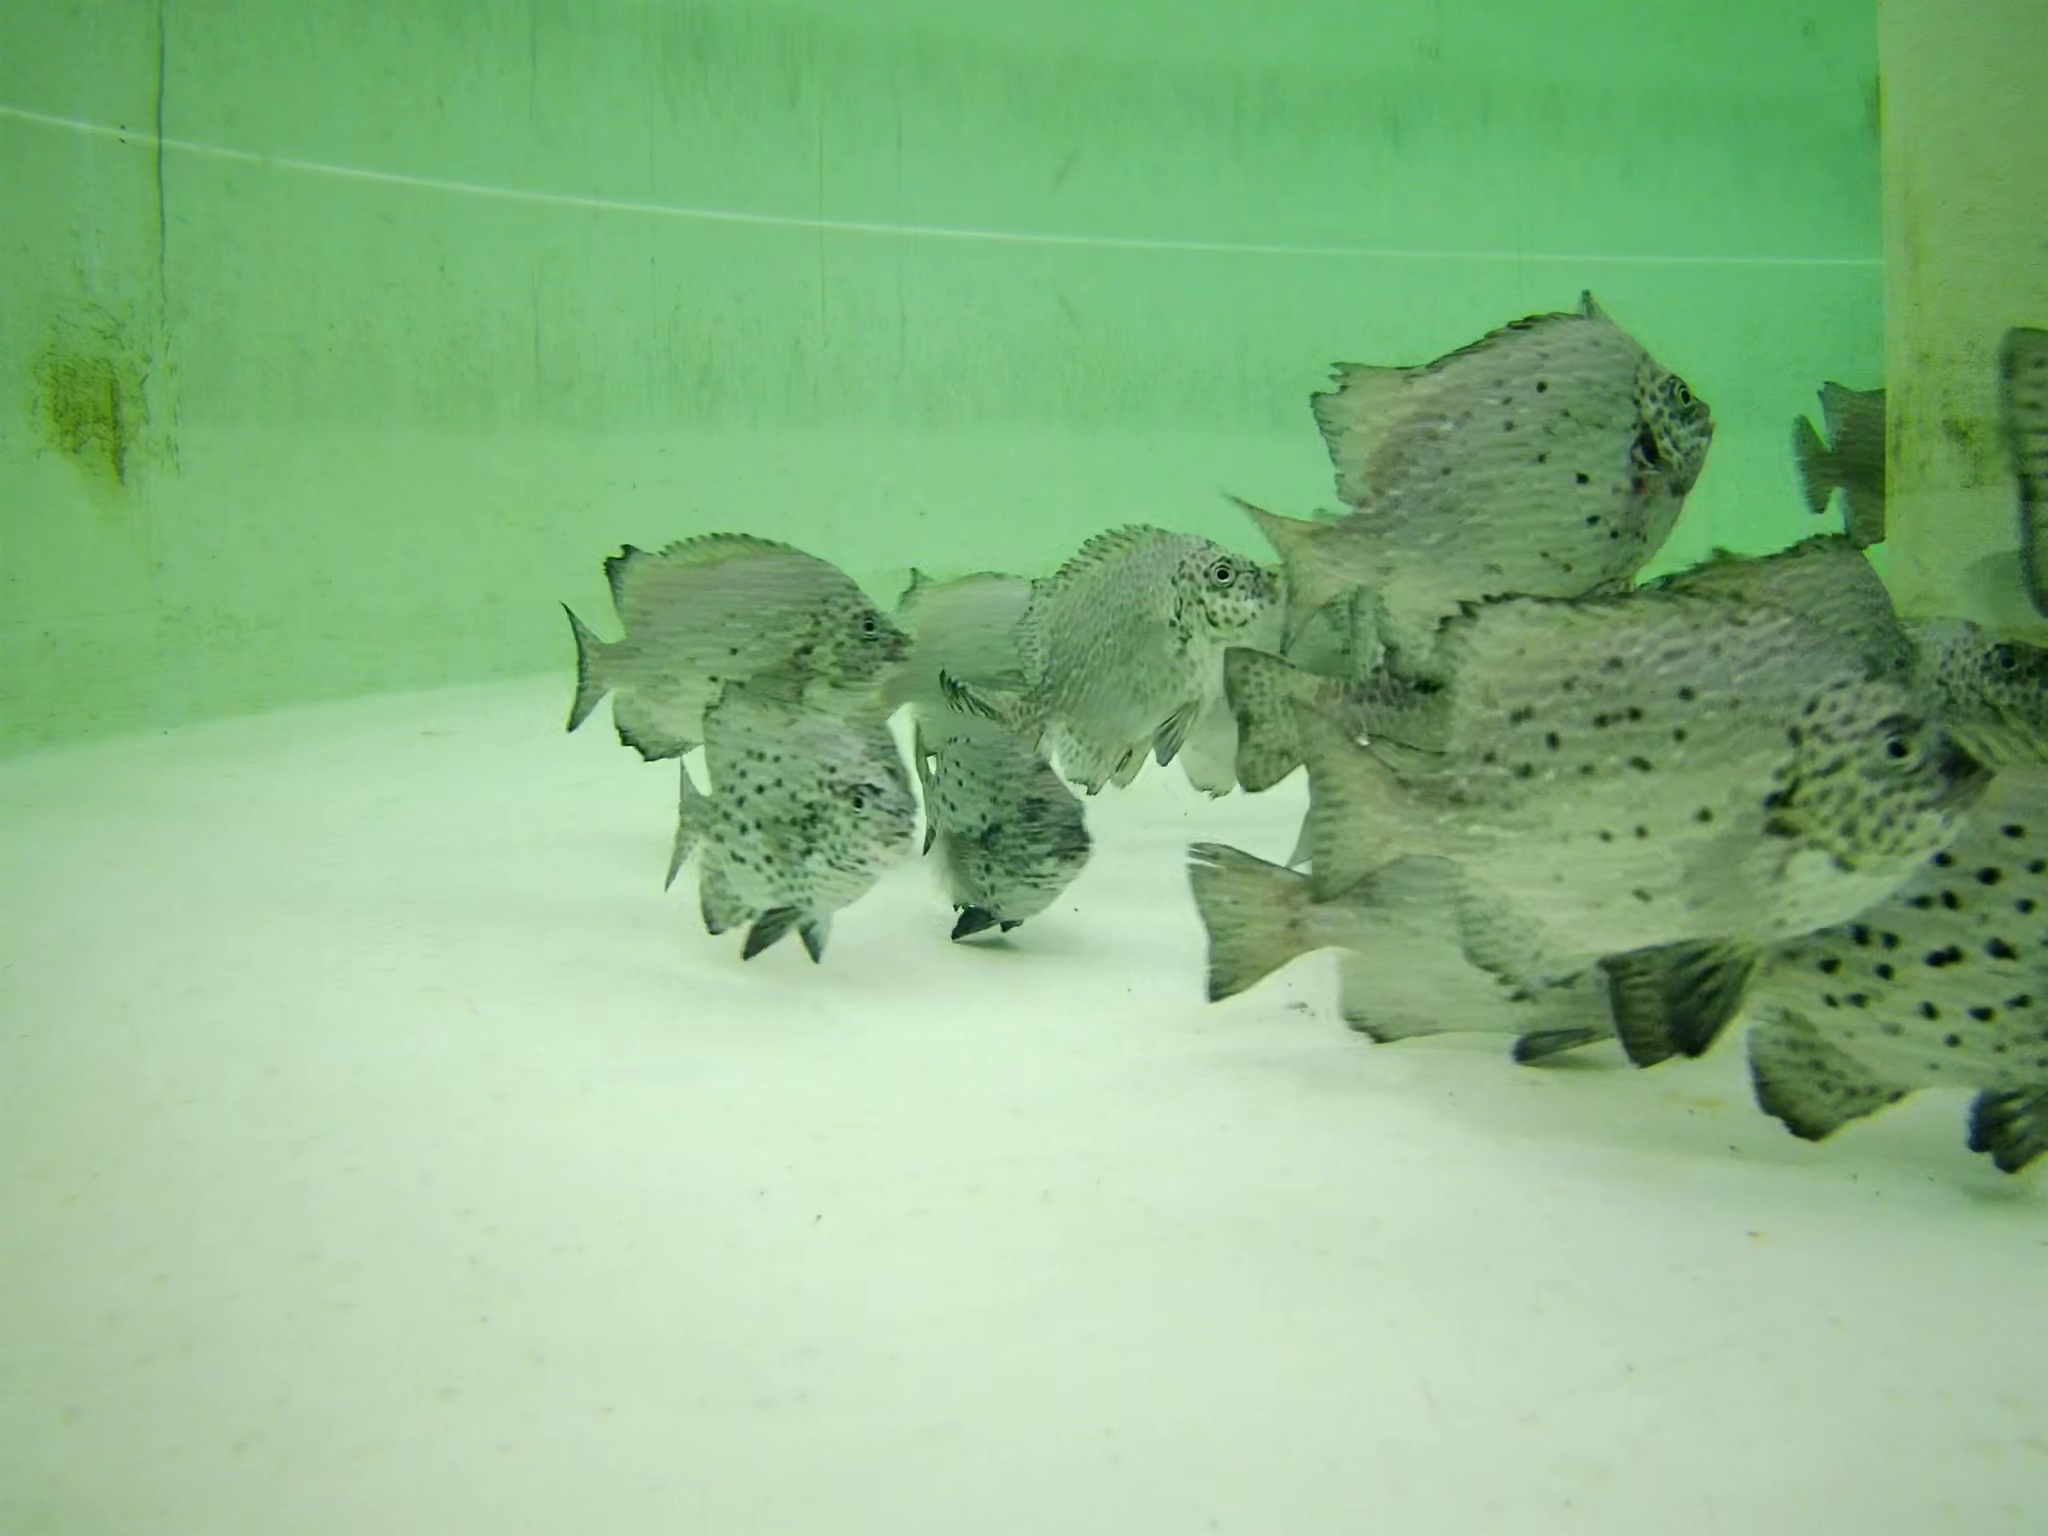fish: (1269, 597, 1995, 962), (1222, 300, 1717, 626), (1176, 824, 1669, 1071), (1759, 807, 2048, 1170), (535, 523, 921, 729), (958, 526, 1280, 771), (669, 676, 911, 958), (906, 692, 1098, 950), (1656, 550, 1914, 712), (890, 560, 1058, 718), (1790, 386, 1895, 545), (1993, 334, 2048, 608)
